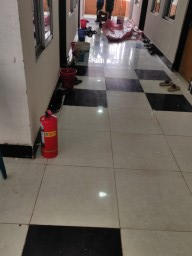fire_extinguisher: (82, 178, 119, 203)
